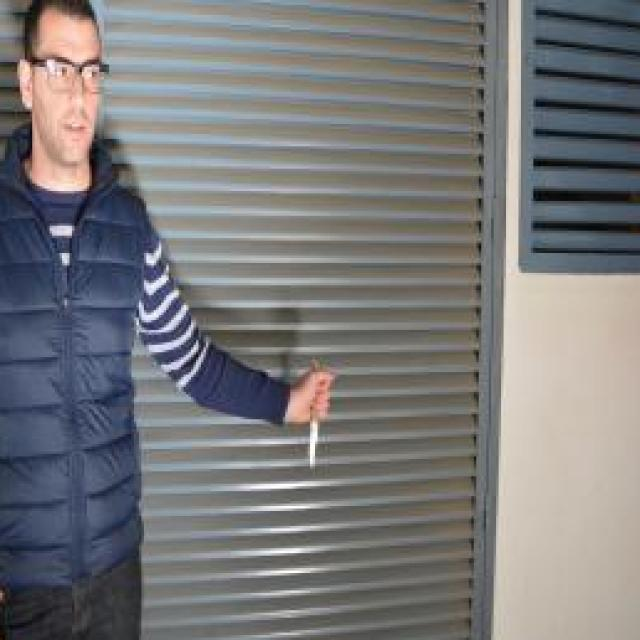knife: (305, 352, 324, 475)
